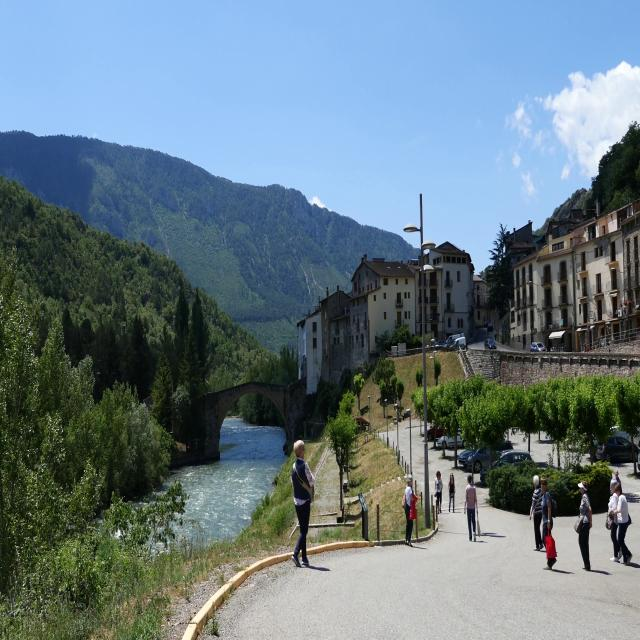body: (290, 438, 316, 569), (573, 479, 593, 572), (540, 474, 558, 571), (613, 481, 633, 567), (605, 478, 624, 563), (529, 474, 544, 552), (464, 473, 478, 542), (404, 473, 415, 546), (433, 470, 443, 514), (447, 471, 456, 514), (610, 469, 622, 497), (491, 328, 501, 342), (592, 439, 595, 458), (518, 453, 523, 462), (550, 338, 552, 350)
